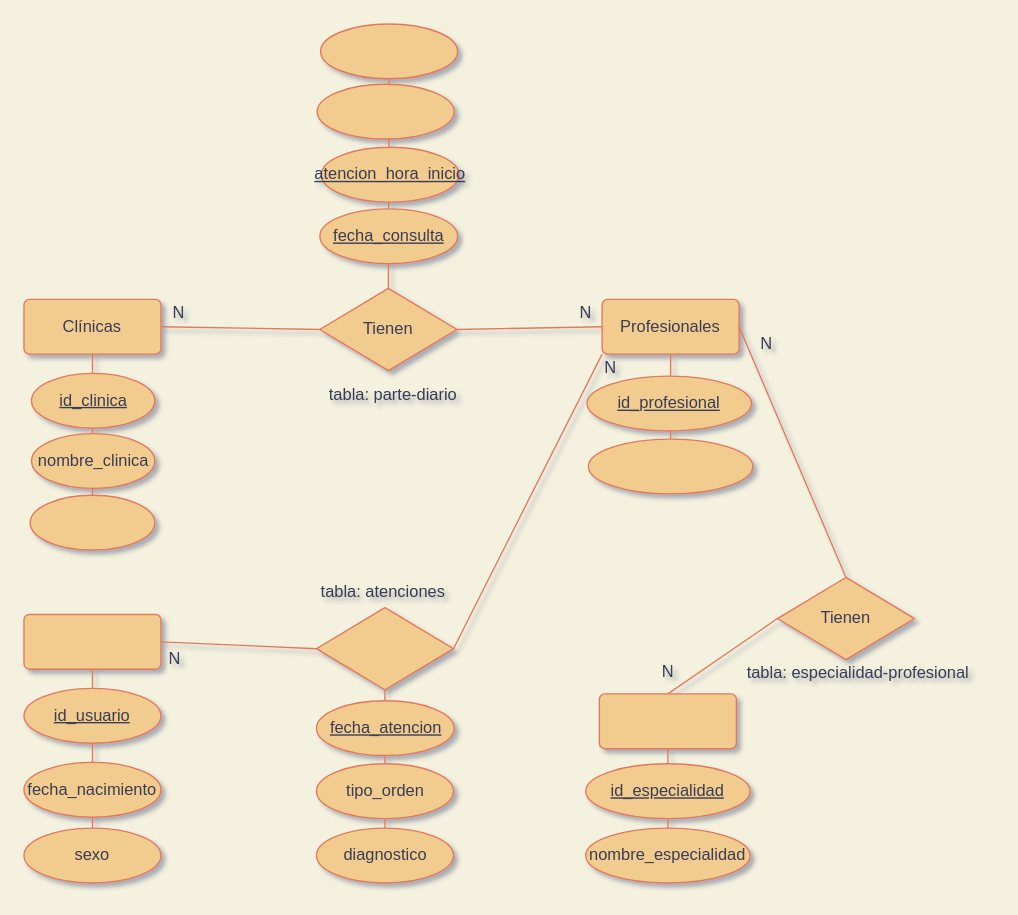
Image size: 1018x915. Some labels were removed from this diagram. Each missing label, with the box of its shape:
atencion_hora_fin: (316, 83, 454, 139)
Especialidades: (598, 693, 736, 749)
nombre_profesional: (587, 438, 753, 494)
Son atendidos: (315, 606, 453, 690)
ubicacion: (29, 494, 155, 550)
usr_no_asistidos: (319, 23, 458, 79)
Usuarios: (23, 613, 161, 669)
